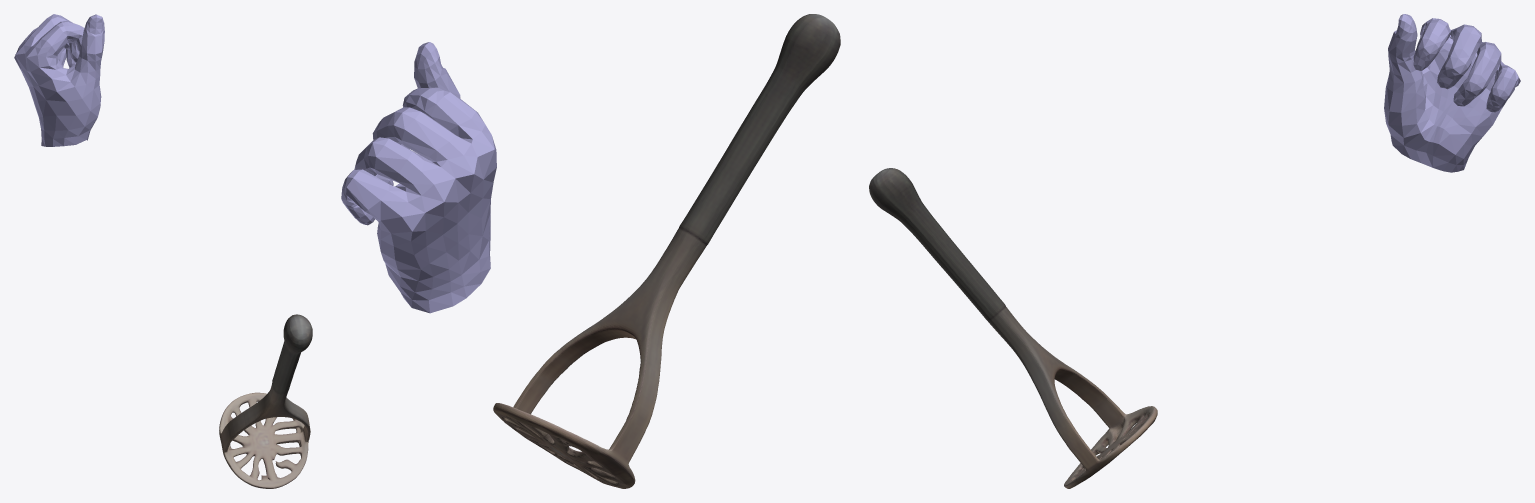
Rendered from frame_0070_source_000070_hand_object.glb.
3 views of the same model, side by side, from view 1: azimuth 30°, elevation 25°; view 2: azimuth 150°, elevation 25°; view 3: azimuth 270°, elevation 25° (orthographic). The views are drawn at different scales.
Visible parts, largest first — view 1: world; view 2: world; view 3: world.
Boxes of the visible parts, box(x1,y1,x2,y2) form: world: box(14, 14, 312, 488); world: box(341, 14, 840, 488); world: box(869, 14, 1520, 488).
Bounding box in the file's own units: 0.128 × 0.3412 × 0.4495.
